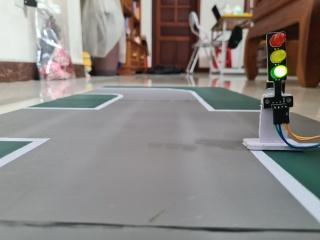green: (261, 20, 291, 90)
